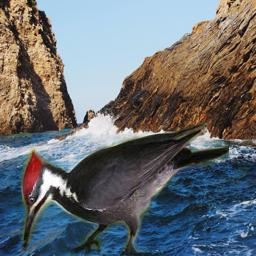Woodpecker: (21, 122, 229, 255)
